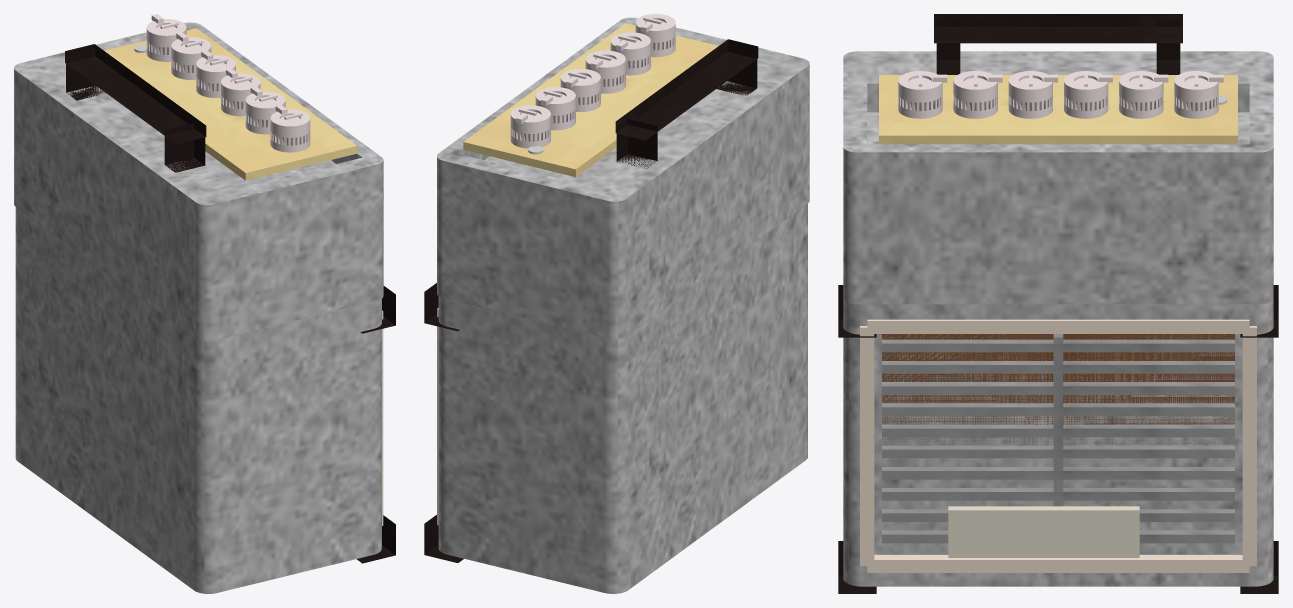
Rendered from Music_Amplifier__0068.glb.
3 renders of one model, left to right at view 1: azimuth 30°, elevation 25°; view 2: azimuth 150°, elevation 25°; view 3: azimuth 270°, elevation 25°, orthographic. The views are drawn at different scales.
Visible parts, largest first — view 1: speaker_cabinet::cabinet_shell, head_box::head_shell, head_box::gold_panel, head_box::handle_strap, knob_0::knob_0, head_box::handle_leg_0, knob_1::knob_1, knob_5::knob_5, knob_4::knob_4, knob_2::knob_2, knob_3::knob_3, head_box::handle_leg_1 (+2 smaller); view 2: speaker_cabinet::cabinet_shell, head_box::head_shell, head_box::gold_panel, head_box::handle_strap, knob_5::knob_5, head_box::handle_leg_1, knob_1::knob_1, knob_2::knob_2, knob_4::knob_4, knob_0::knob_0, knob_3::knob_3, head_box::handle_leg_0 (+2 smaller); view 3: head_box::head_shell, speaker_cabinet::cabinet_shell, head_box::gold_panel, speaker_cabinet::baffle_board, speaker_cabinet::marshall_logo, head_box::handle_strap, speaker_cabinet::piping_h_1, speaker_cabinet::piping_h_0, speaker_cabinet::grille_bar_4, speaker_cabinet::grille_bar_5, speaker_cabinet::grille_bar_9, speaker_cabinet::grille_bar_6 (+19 smaller).
Part boxes in pixels (left/top/right/bottom): speaker_cabinet::cabinet_shell: left=15, top=207, right=381, bottom=593; head_box::head_shell: left=14, top=22, right=383, bottom=341; head_box::gold_panel: left=104, top=28, right=357, bottom=180; head_box::handle_strap: left=65, top=44, right=206, bottom=144; knob_0::knob_0: left=270, top=104, right=310, bottom=152; head_box::handle_leg_0: left=164, top=123, right=205, bottom=172; knob_1::knob_1: left=245, top=86, right=285, bottom=134; knob_5::knob_5: left=146, top=14, right=186, bottom=61; knob_4::knob_4: left=171, top=32, right=211, bottom=79; knob_2::knob_2: left=221, top=68, right=260, bottom=116; knob_3::knob_3: left=196, top=50, right=235, bottom=97; head_box::handle_leg_1: left=66, top=50, right=106, bottom=100; speaker_cabinet::cabinet_shell: left=438, top=203, right=807, bottom=593; head_box::head_shell: left=437, top=17, right=809, bottom=339; head_box::gold_panel: left=463, top=23, right=718, bottom=177; head_box::handle_strap: left=615, top=39, right=758, bottom=140; knob_5::knob_5: left=510, top=105, right=550, bottom=148; head_box::handle_leg_1: left=616, top=118, right=657, bottom=168; knob_1::knob_1: left=610, top=32, right=650, bottom=75; knob_2::knob_2: left=585, top=50, right=625, bottom=93; knob_4::knob_4: left=535, top=87, right=575, bottom=130; knob_0::knob_0: left=635, top=14, right=675, bottom=57; knob_3::knob_3: left=560, top=69, right=600, bottom=111; head_box::handle_leg_0: left=716, top=46, right=757, bottom=95; head_box::head_shell: left=843, top=51, right=1273, bottom=304; speaker_cabinet::cabinet_shell: left=843, top=299, right=1273, bottom=586; head_box::gold_panel: left=879, top=75, right=1237, bottom=144; speaker_cabinet::baffle_board: left=882, top=334, right=1234, bottom=464; speaker_cabinet::marshall_logo: left=948, top=506, right=1139, bottom=557; head_box::handle_strap: left=934, top=14, right=1182, bottom=43; speaker_cabinet::piping_h_1: left=867, top=555, right=1249, bottom=572; speaker_cabinet::piping_h_0: left=867, top=319, right=1249, bottom=333; speaker_cabinet::grille_bar_4: left=882, top=445, right=1234, bottom=458; speaker_cabinet::grille_bar_5: left=882, top=424, right=1234, bottom=437; speaker_cabinet::grille_bar_9: left=882, top=339, right=1234, bottom=352; speaker_cabinet::grille_bar_6: left=882, top=403, right=1234, bottom=415.
Bounding box in the file's own units: 0.0933 × 0.2023 × 0.1667.
10 materials, 7 textured.
